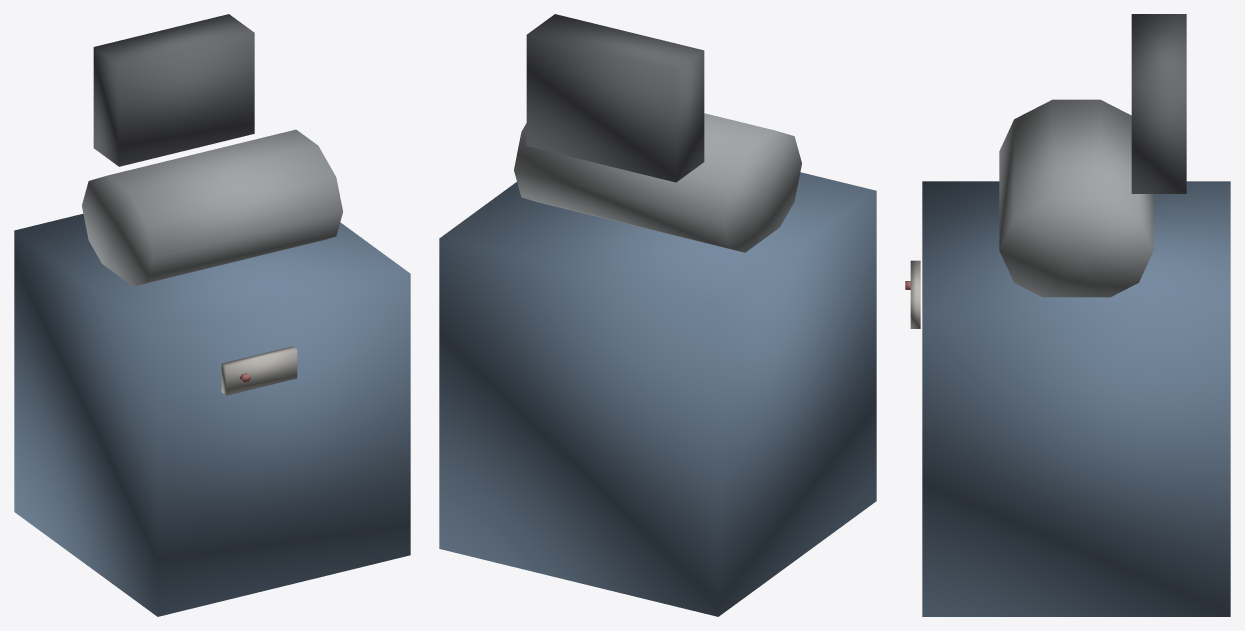
The model's file is wheel_balancer__squat.glb.
3 views of the same model, side by side, from view 1: azimuth 30°, elevation 25°; view 2: azimuth 150°, elevation 25°; view 3: azimuth 270°, elevation 25° (orthographic). The views are drawn at different scales.
Visible parts, largest first — view 1: world; view 2: world; view 3: world.
Part boxes in pixels (bbox=[...]): world: bbox=[14, 14, 410, 616]; world: bbox=[439, 14, 876, 616]; world: bbox=[905, 14, 1230, 616].
Bounding box in the file's own units: 0.616 × 1.08 × 0.6383.
